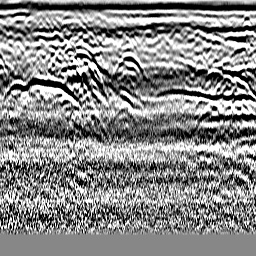cavity: (115, 50, 143, 76)
